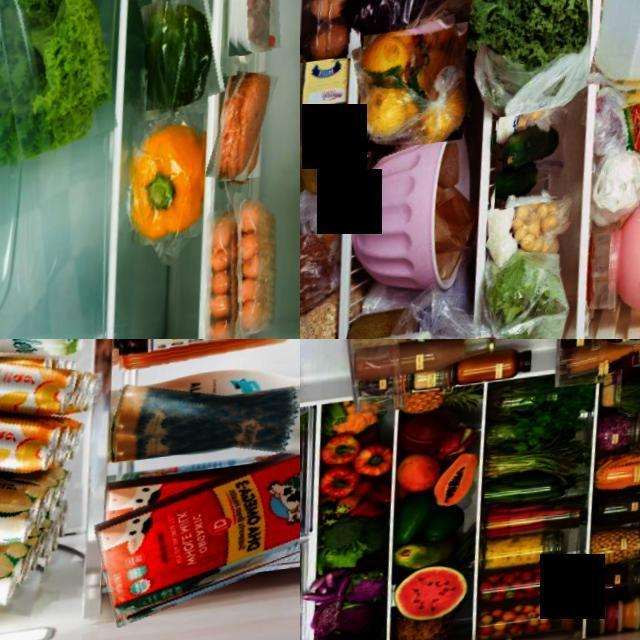beef: (213, 74, 284, 190), (218, 0, 298, 62)
bell_pepper: (131, 116, 219, 252), (140, 0, 234, 118), (324, 432, 395, 531), (391, 500, 476, 558)
bottle: (113, 375, 300, 483), (361, 339, 509, 381), (568, 349, 640, 383)
can: (0, 345, 109, 632)
cucumber: (493, 113, 578, 217)
egg: (300, 0, 370, 66)
ground_beef: (212, 200, 300, 339)
lemon: (348, 21, 482, 162)
milk: (98, 434, 300, 618)
parsley: (0, 0, 133, 164), (469, 0, 598, 86), (492, 426, 590, 482)
plasticsaveholder: (354, 142, 488, 308), (481, 506, 597, 548), (494, 474, 602, 518), (492, 388, 600, 431), (488, 571, 586, 614), (477, 606, 598, 640), (457, 349, 544, 392), (486, 538, 573, 577), (599, 454, 640, 503), (348, 339, 471, 355), (613, 97, 640, 169), (594, 421, 640, 462), (597, 494, 640, 534), (403, 370, 460, 400), (598, 532, 640, 572), (596, 605, 640, 640), (558, 339, 611, 363), (609, 339, 640, 353)
red_cabbage: (318, 552, 394, 640)
watermelon: (398, 568, 487, 627)
